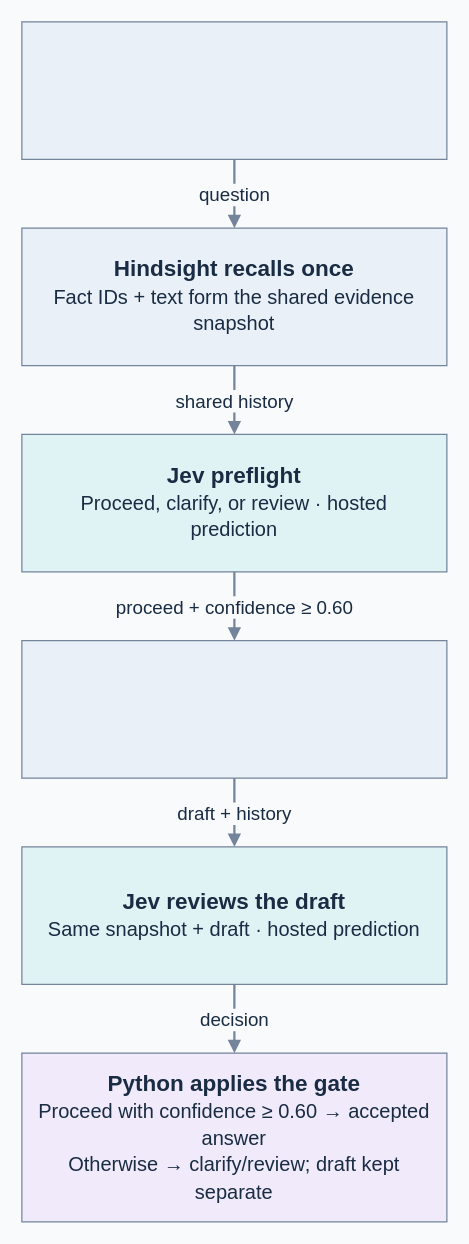
The diagram is 469 pixels wide and 1244 high, and some of its shapes have lost their labels. Here are the shapes that lost their labels. From the top down, the centre of each, then its label:
At point 234,90: "Request + user/project scope Application selects the memory bank".
At point 234,708: "Local worker drafts an answer Same question, instructions and memory evidence".
